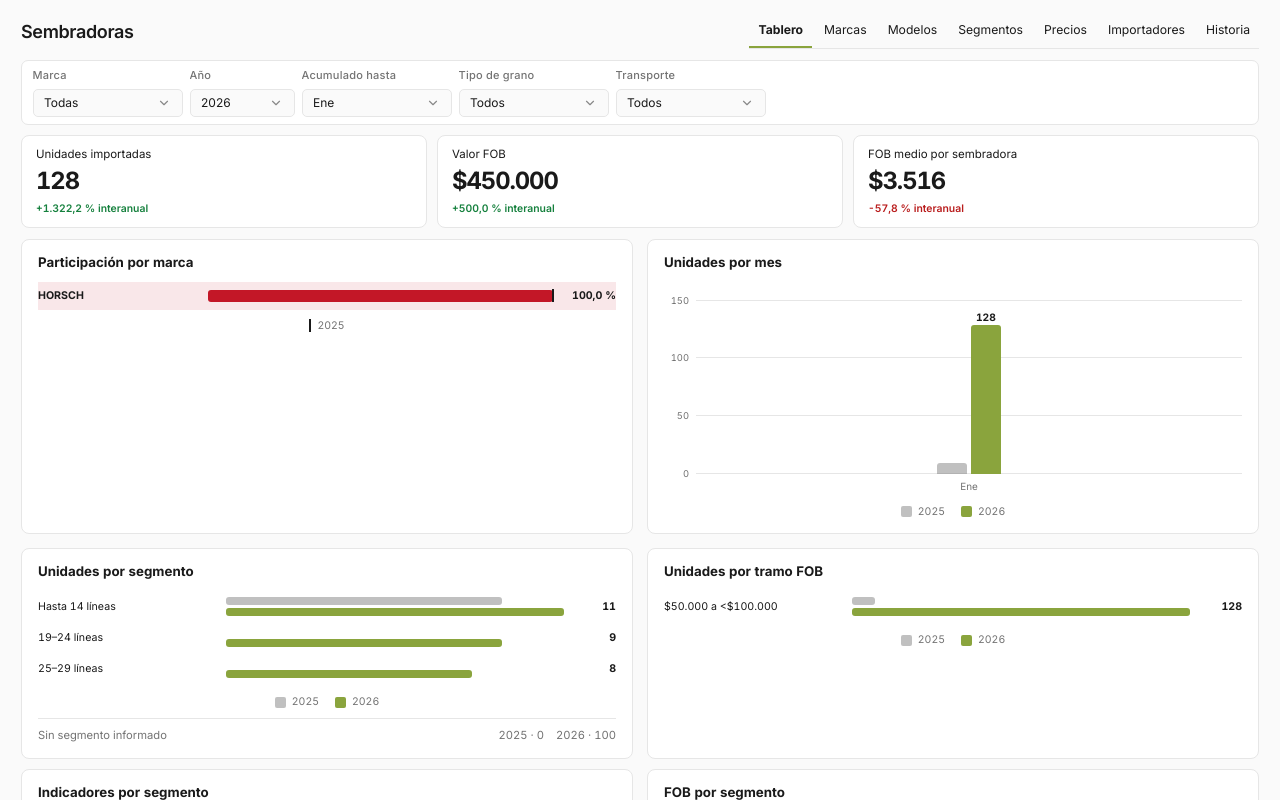
Test: agrupa los mismos números de líneas con independencia del grano
Expected: the element titled "2025: 9 · 2026: 11" shows "Hasta 14 líneas", [38,600,116,613]
Expected: the element titled "2025: 0 · 2026: 8" shows "25–29 líneas", [38,662,103,675]
Click the link "Segmentos". click: coordinates (991, 30)
box: [958,22,1023,37]
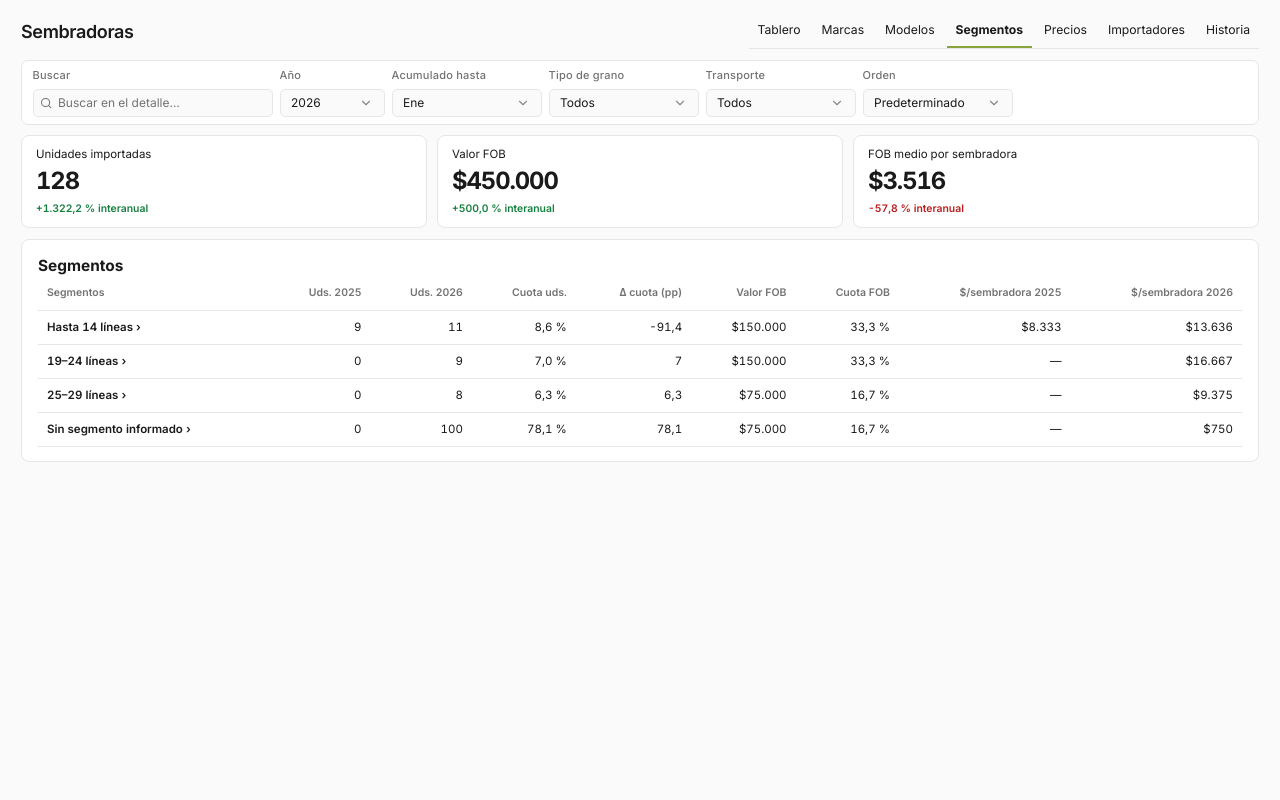
Result: the link "Hasta 14 líneas ›" is shown at [47,320,141,334]
